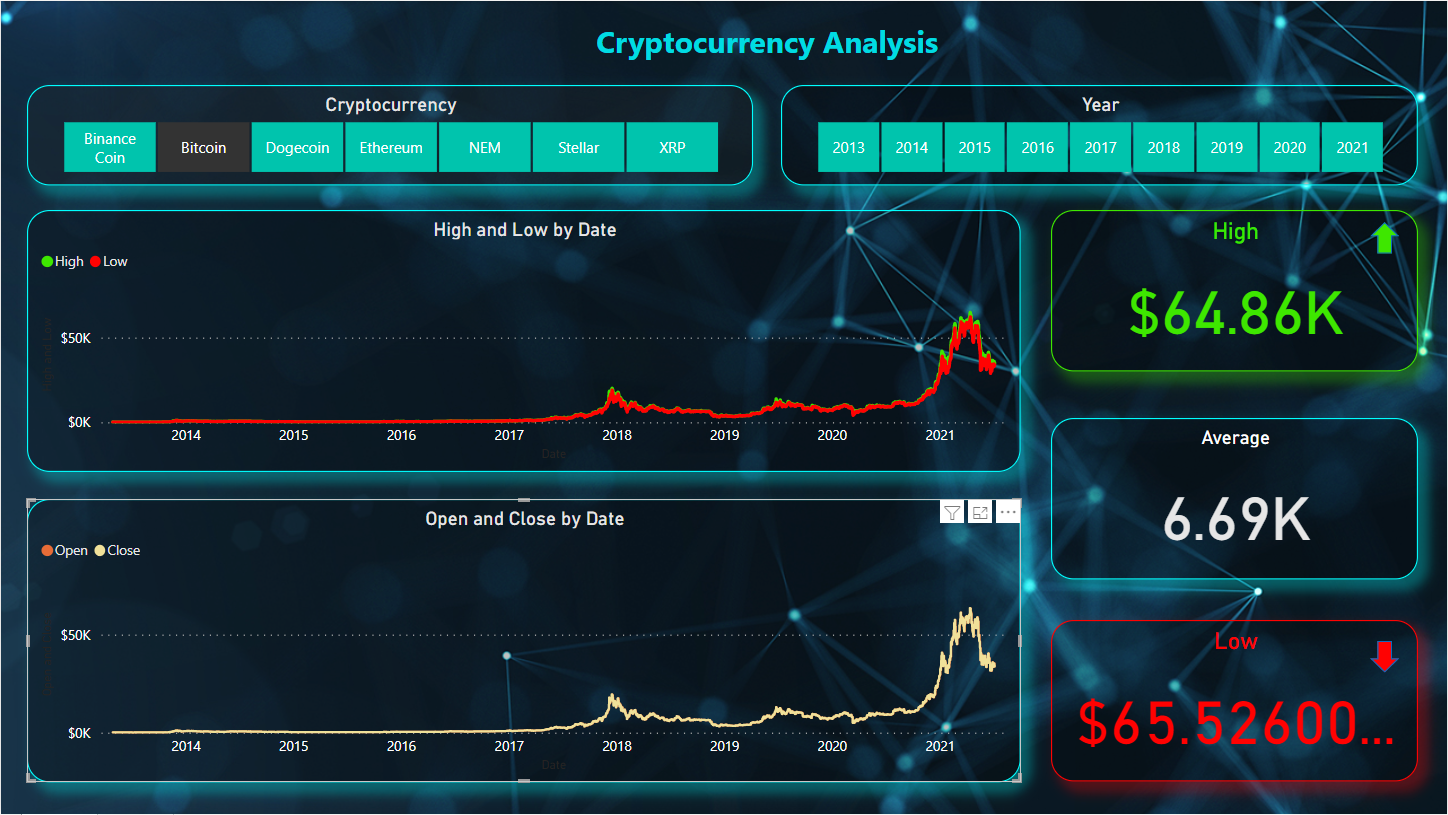

This screenshot's page, from the dashboard's own definition file:
{"tool":"powerbi","page":{"name":"Page 1","canvas":[1280,720],"ordinal":0},"visuals":[{"type":"slicer","title":"Cryptocurrency","fields":{"Values":["RawDataset1.Name"]},"box":[23,74.4,643,88.6],"z":0},{"type":"slicer","title":"Year","fields":{"Values":["RawDataset1.Year"]},"box":[690.8,74.4,564.1,88.6],"z":1000},{"type":"lineChart","fields":{"Category":["RawDataset1.Date"],"Y":["Sum(RawDataset1.High)","Sum(RawDataset1.Low)"]},"box":[23,185.1,880.3,232],"z":2000},{"type":"lineChart","fields":{"Category":["RawDataset1.Date"],"Y":["Sum(RawDataset1.Open)","Sum(RawDataset1.Close)"]},"box":[23,441,880.3,250.6],"z":3000},{"type":"card","title":"High","fields":{"Values":["Max(RawDataset1.High)"]},"box":[929.9,185.1,325,143.5],"z":4000},{"type":"card","title":"Average","fields":{"Values":["Avg(RawDataset1.Average)"]},"box":[929.9,369.3,325,143.5],"z":5000},{"type":"card","title":"Low","fields":{"Values":["Min(RawDataset1.Low)"]},"box":[929.9,548.2,325,143.5],"z":6000},{"type":"textbox","box":[491,12,376,47.8],"z":7000},{"type":"shape","box":[1212.4,195.7,25.7,28.3],"z":8000},{"type":"shape","box":[1212.4,566.8,25.7,28.3],"z":9000},{"type":"shape","box":[1201.8,21.3,53.1,29.2],"z":10000}]}

Visuals, with their boxes in screenshot pixels (x1, y1, x2, y2), scaled from the page's 1280x720 canvas onto the 1448x815 screenshot:
"Cryptocurrency" slicer: 26/84/753/185
"Year" slicer: 781/84/1420/185
lineChart - RawDataset1.Date x Sum(RawDataset1.High): 26/210/1022/472
lineChart - RawDataset1.Date x Sum(RawDataset1.Open): 26/499/1022/783
"High" card: 1052/210/1420/372
"Average" card: 1052/418/1420/580
"Low" card: 1052/621/1420/783
textbox: 555/14/981/68
shape: 1372/222/1401/254
shape: 1372/642/1401/674
shape: 1360/24/1420/57
